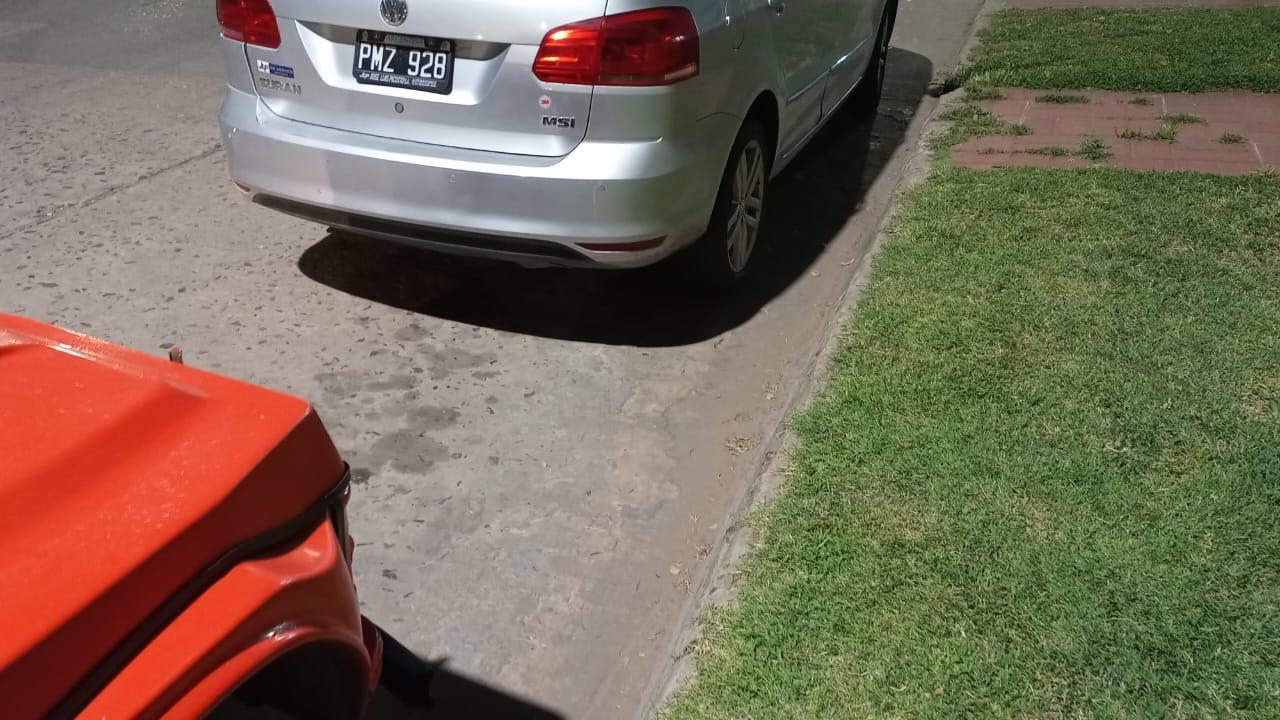matricula: (350, 30, 458, 92)
